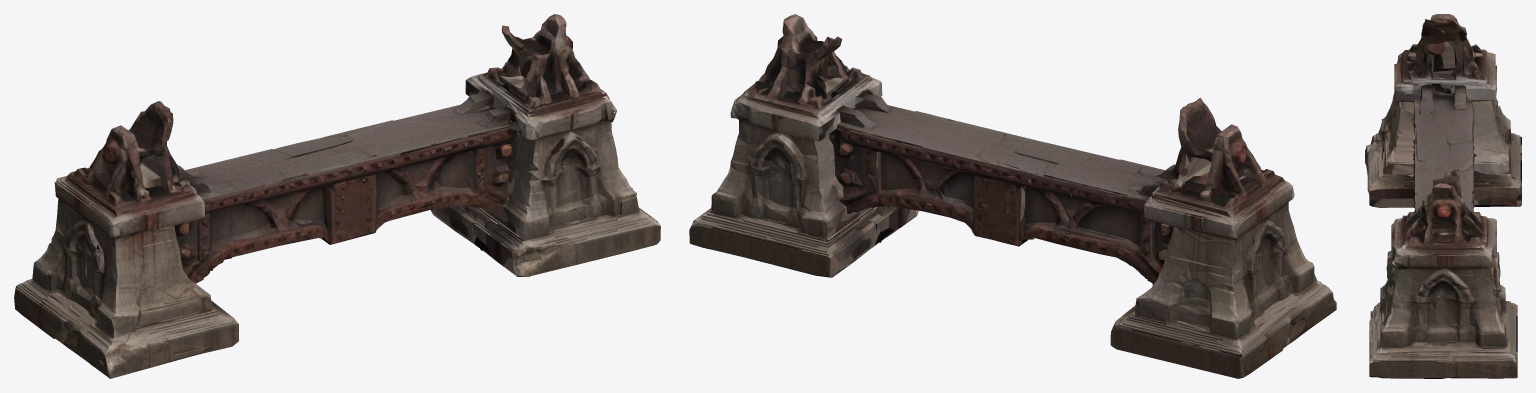
The model's file is park_wheel_foundation_1117.glb.
3 renders of one model, left to right at view 1: azimuth 30°, elevation 25°; view 2: azimuth 150°, elevation 25°; view 3: azimuth 270°, elevation 25°, orthographic. The views are drawn at different scales.
Visible parts, largest first — view 1: world; view 2: world; view 3: world.
Boxes of the visible parts, x1,y1,x2,y2 form: world: (14, 14, 660, 378); world: (689, 14, 1336, 378); world: (1365, 14, 1521, 378).
Size of the model in its own units: 2.66 by 1 by 0.7924.
Materials: 1 (1 with a texture image).
